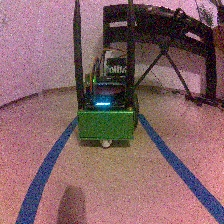rob: (76, 56, 140, 148)
